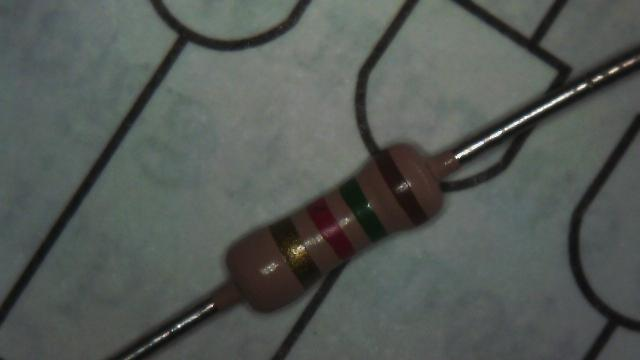brown: (374, 149, 428, 226)
gold: (269, 218, 320, 286)
green: (340, 178, 387, 242)
red: (306, 197, 354, 262)
resistor: (198, 101, 489, 342)
